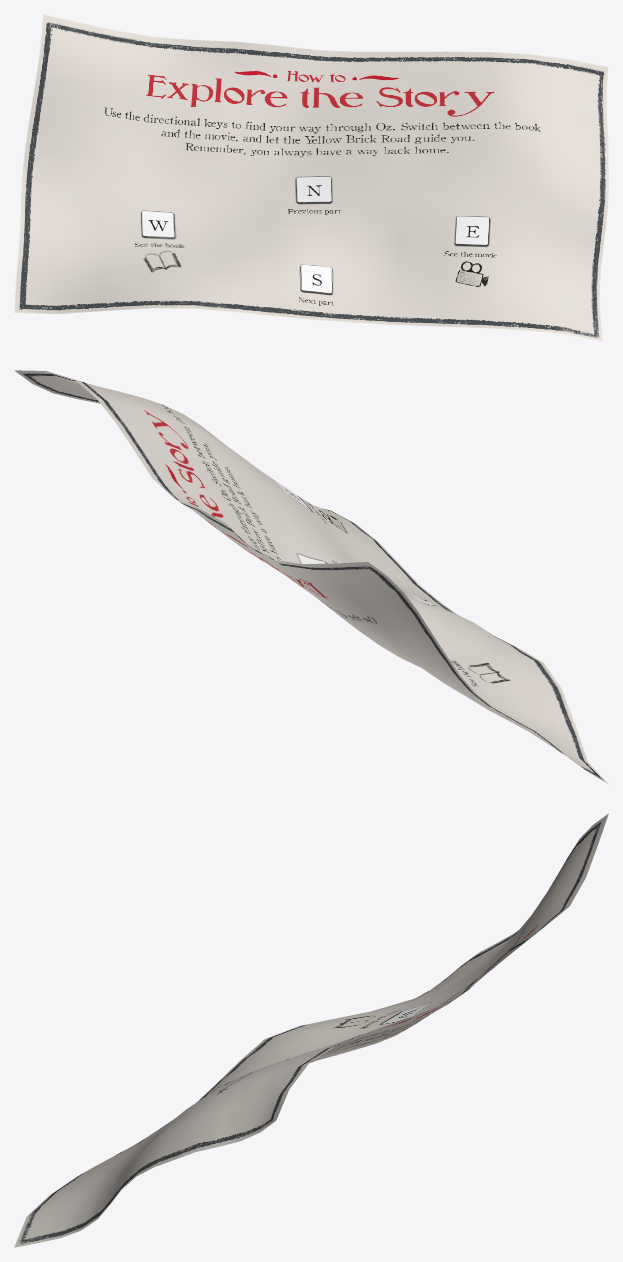
3 views of the same model, one above another, from view 1: azimuth 30°, elevation 25°; view 2: azimuth 150°, elevation 25°; view 3: azimuth 270°, elevation 25° (orthographic). The views are drawn at different scales.
Parts seen in each view (by area): view 1: About.001; view 2: About.001; view 3: About.001.
Part boxes in pixels (box(x1,y1,x2,y2)): About.001: box(14, 14, 608, 341); About.001: box(14, 370, 608, 784); About.001: box(14, 813, 608, 1247).
Bounding box in the file's own units: 0.0961 × 0.0375 × 0.0785.
1 material, 1 textured.
